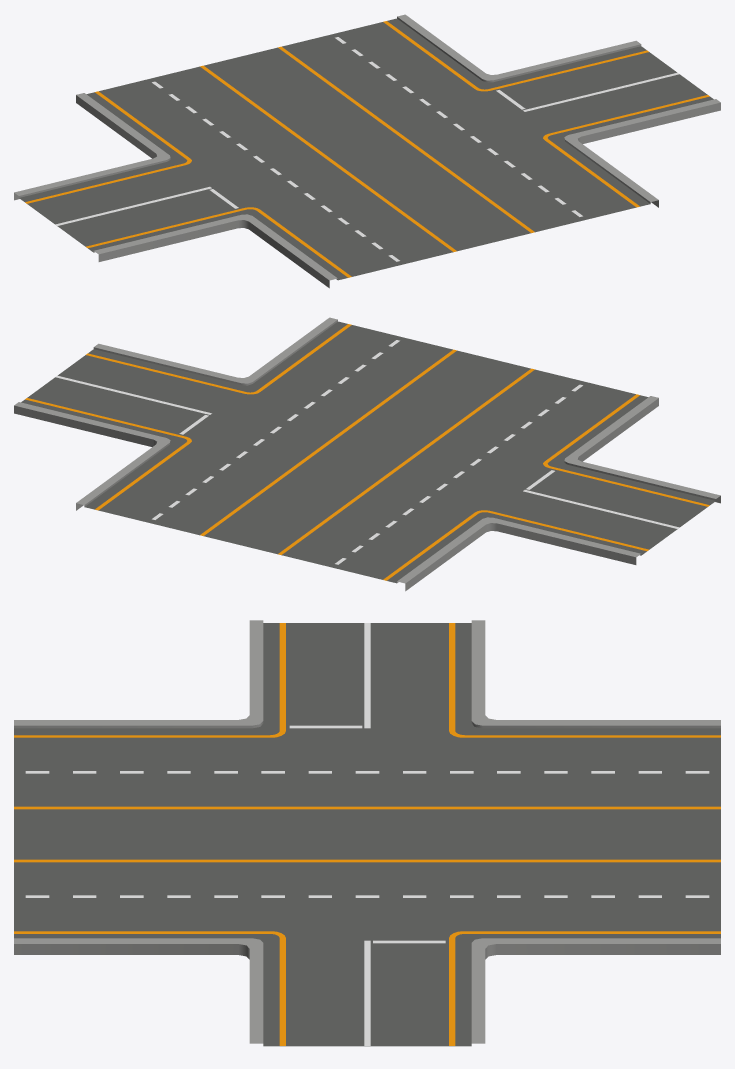
File: Road_B_2L_1_5.fbx
3 views of the same model, one above another, from view 1: azimuth 30°, elevation 25°; view 2: azimuth 150°, elevation 25°; view 3: azimuth 270°, elevation 25° (orthographic). The views are drawn at different scales.
Visible parts, largest first — view 1: Road_B_2L_1_5; view 2: Road_B_2L_1_5; view 3: Road_B_2L_1_5.
Boxes of the visible parts, bbox=[...] form: Road_B_2L_1_5: bbox=[14, 14, 720, 288]; Road_B_2L_1_5: bbox=[14, 317, 720, 591]; Road_B_2L_1_5: bbox=[14, 620, 720, 1046].
Size of the model in its own units: 3400 by 41.48 by 2400.
